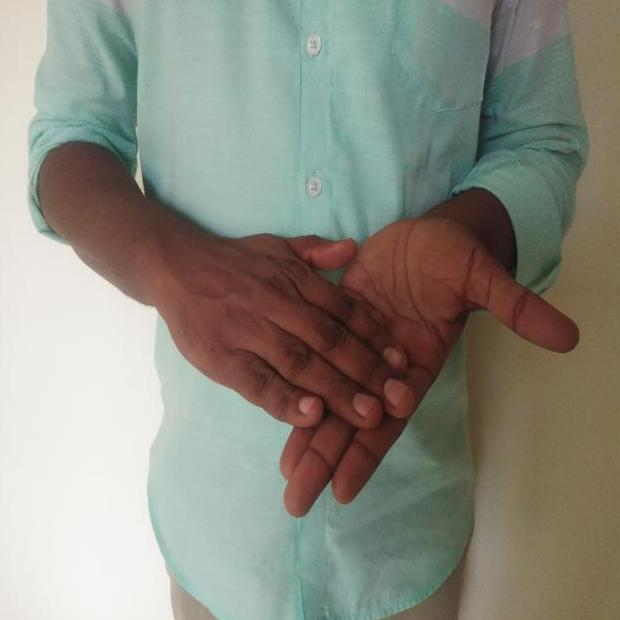G: (149, 192, 591, 533)
